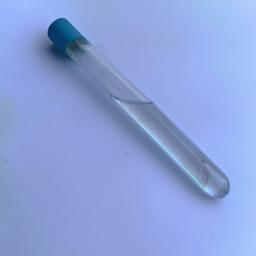Test tube: (44, 28, 231, 207)
